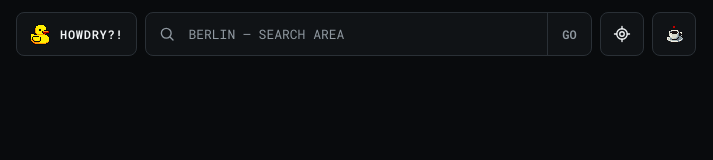
it: LocationSearch › searches after two characters and a short debounce
The image size is (713, 160).
Type "C" into the dropdown at x=363, y=34, box top-left (178, 13), bottom-right (547, 55)
Wait 250 ms
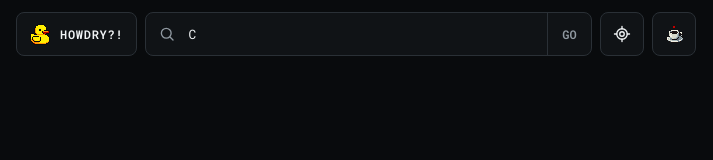
Replace the text in the dropdown with "Ca" at x=363, y=34, box top-left (178, 13), bottom-right (547, 55)
Wait 250 ms
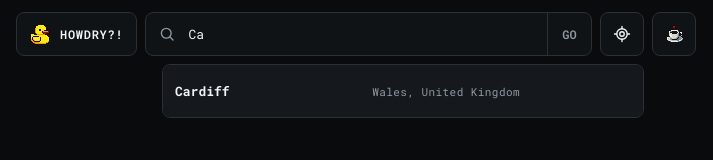
Expected: the option "Cardiff Wales, United Kingdom" is shown, top-left (163, 65), bottom-right (643, 117)
